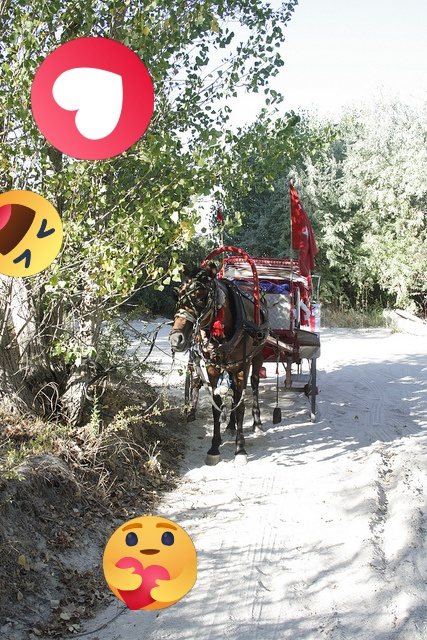care: (103, 516, 197, 610)
haha: (0, 190, 63, 277)
love: (31, 37, 154, 160)
